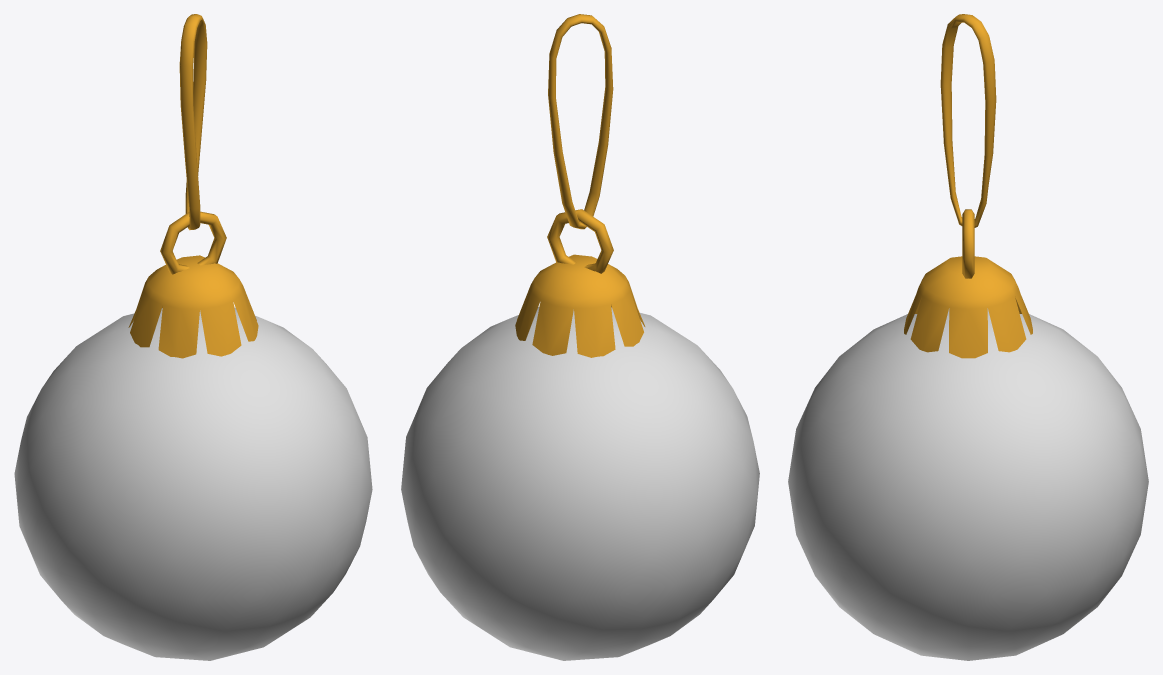
The model's file is Ball_Booster.fbx.
3 views of the same model, side by side, from view 1: azimuth 30°, elevation 25°; view 2: azimuth 150°, elevation 25°; view 3: azimuth 270°, elevation 25° (orthographic).
Parts seen in each view (by area): view 1: Ball_16_Booster; view 2: Ball_16_Booster; view 3: Ball_16_Booster.
Boxes of the visible parts, <box> form: Ball_16_Booster: <box>14,14,372,660</box>; Ball_16_Booster: <box>401,14,759,660</box>; Ball_16_Booster: <box>788,14,1148,660</box>.
Bounding box in the file's own units: 4.31 × 8.3 × 4.31.
